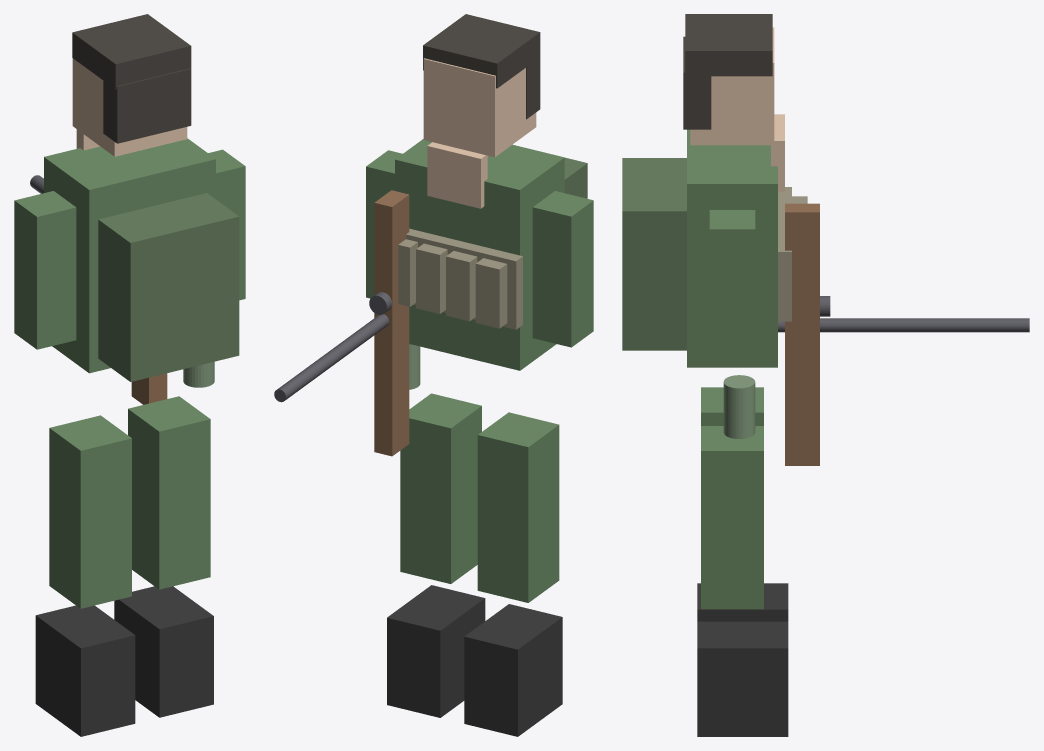
Rendered from bo_doi.glb.
The picture shows the model from 3 angles, left to right: view 1: azimuth 30°, elevation 25°; view 2: azimuth 150°, elevation 25°; view 3: azimuth 270°, elevation 25°; orthographic projection.
Parts seen in each view (by area): view 1: Cube.007, Cube.011, Cube.013, Cube, Cube.012, Cube.014, Cube.015, Cube.009, Cube.010, Cube.008, Cube.016, Cube.017 (+1 smaller); view 2: Cube, Cube.011, Cube.013, Cube.012, Cube.014, Cube.015, Cube.008, Cube.017, Cube.009, Cube.001, Cube.002, Cube.003 (+7 smaller); view 3: Cube, Cube.007, Cube.013, Cube.014, Cube.017, Cube.016, Cube.009, Cube.008, Cylinder.001, Cylinder, Cube.012, Cube.010 (+3 smaller).
Part boxes in pixels (box(x1,y1,x2,y2)): Cube.007: box(98, 193, 239, 381); Cube.011: box(49, 415, 131, 608); Cube.013: box(128, 396, 210, 589); Cube: box(44, 138, 215, 373); Cube.012: box(35, 605, 135, 736); Cube.014: box(114, 586, 213, 717); Cube.015: box(14, 191, 76, 349); Cube.009: box(72, 14, 191, 89); Cube.010: box(103, 68, 191, 143); Cube.008: box(72, 58, 187, 156); Cube.016: box(208, 149, 245, 300); Cube.017: box(131, 373, 167, 404); Cube: box(395, 139, 564, 370); Cube.011: box(477, 412, 559, 602); Cube.013: box(400, 393, 481, 583); Cube.012: box(464, 604, 562, 736); Cube.014: box(387, 585, 485, 717); Cube.015: box(532, 191, 593, 347); Cube.008: box(423, 58, 536, 157); Cube.017: box(374, 190, 409, 456); Cube.009: box(423, 14, 540, 88); Cube.001: box(427, 142, 487, 208); Cube.002: box(406, 228, 522, 329); Cube.003: box(475, 258, 507, 328); Cube: box(687, 129, 777, 367); Cube.007: box(622, 158, 686, 350); Cube.013: box(701, 426, 763, 609); Cube.014: box(697, 621, 788, 736); Cube.017: box(785, 203, 819, 465); Cube.016: box(709, 210, 755, 362); Cube.009: box(685, 14, 772, 76); Cube.008: box(690, 27, 774, 145); Cylinder.001: box(778, 318, 1029, 332); Cylinder: box(723, 375, 755, 438); Cube.012: box(697, 583, 788, 621); Cube.010: box(683, 36, 711, 129).
Bounding box in the file's own units: 0.69 × 2.12 × 1.16.
